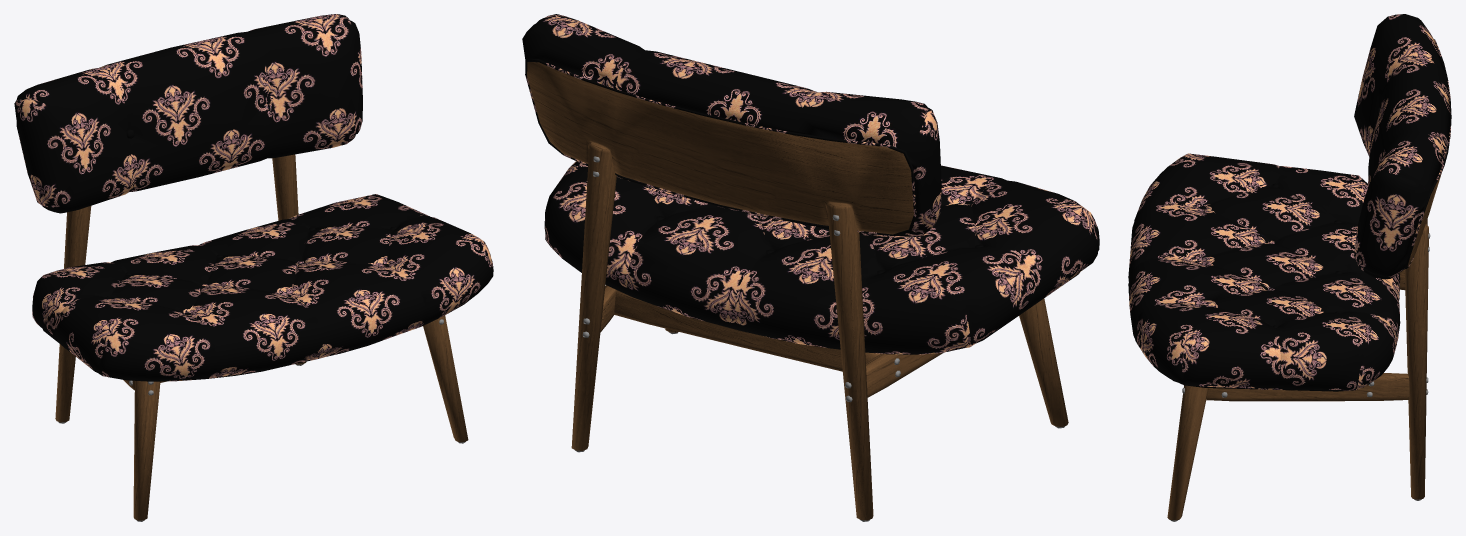
Rendered from chair.glb.
3 renders of one model, left to right at view 1: azimuth 30°, elevation 25°; view 2: azimuth 150°, elevation 25°; view 3: azimuth 270°, elevation 25°, orthographic. The views are drawn at different scales.
Parts seen in each view (by area): view 1: oval-tufted-chair_seat-fabric, oval-tufted-chair_back-fabric, oval-tufted-chair_legs-frame; view 2: oval-tufted-chair_seat-fabric, oval-tufted-chair_back-panel, oval-tufted-chair_legs-frame, oval-tufted-chair_back-fabric, oval-tufted-chair_back-welt; view 3: oval-tufted-chair_seat-fabric, oval-tufted-chair_back-fabric, oval-tufted-chair_legs-frame, oval-tufted-chair_back-welt, oval-tufted-chair_back-panel.
Part boxes in pixels (box(x1,y1,x2,y2)): oval-tufted-chair_seat-fabric: box(32, 194, 493, 380); oval-tufted-chair_back-fabric: box(14, 14, 362, 213); oval-tufted-chair_legs-frame: box(55, 154, 468, 520); oval-tufted-chair_seat-fabric: box(544, 161, 1099, 354); oval-tufted-chair_back-panel: box(527, 62, 913, 234); oval-tufted-chair_legs-frame: box(571, 142, 1068, 520); oval-tufted-chair_back-fabric: box(522, 14, 941, 237); oval-tufted-chair_back-welt: box(525, 58, 916, 236); oval-tufted-chair_seat-fabric: box(1128, 153, 1400, 390); oval-tufted-chair_back-fabric: box(1354, 14, 1450, 279); oval-tufted-chair_legs-frame: box(1167, 219, 1428, 520); oval-tufted-chair_back-welt: box(1405, 39, 1451, 268); oval-tufted-chair_back-panel: box(1407, 173, 1441, 266).
Size of the model in its own units: 0.8286 by 0.6865 by 0.5716.
Materials: 4 (3 with a texture image).
